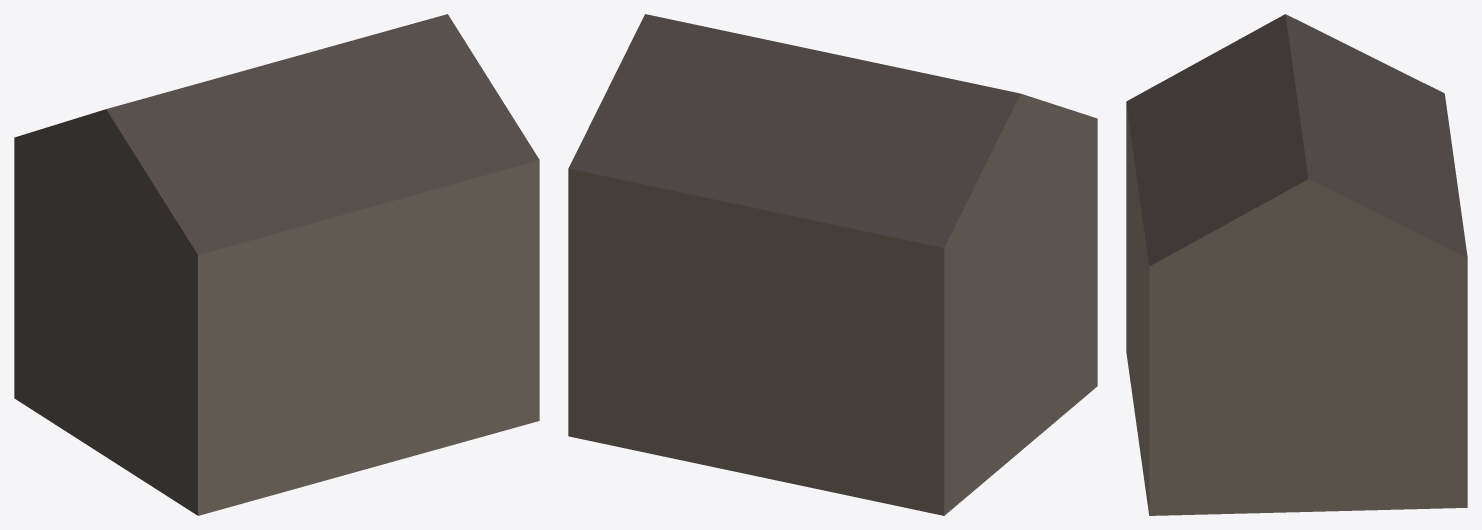
3 renders of one model, left to right at view 1: azimuth 30°, elevation 25°; view 2: azimuth 150°, elevation 25°; view 3: azimuth 270°, elevation 25°, orthographic. The views are drawn at different scales.
Visible parts, largest first — view 1: HP-w369317532; view 2: HP-w369317532; view 3: HP-w369317532.
Part boxes in pixels (x1,y1,x2,y2): HP-w369317532: (14,14,539,515); HP-w369317532: (568,14,1097,515); HP-w369317532: (1126,14,1467,515).
Bounding box in the file's own units: 13.41 × 12.01 × 11.18.
